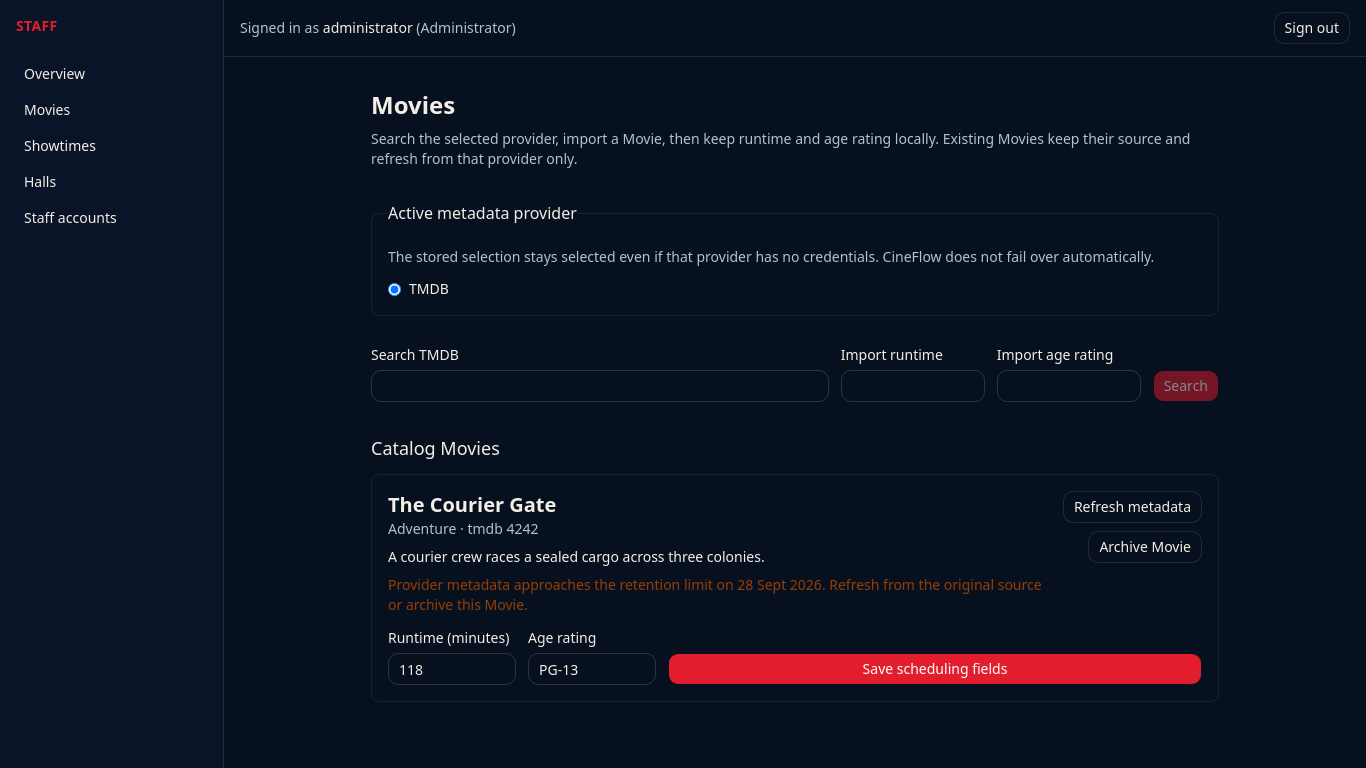
AdminMoviesPage › shows a retention warning and archives through the catalog client
This screenshot has width=1366, height=768.
Expected: the text "Provider metadata approaches the retention limit on 28 Sept 2026" is shown, [388, 575, 1051, 615]
Click the button "Archive Movie".
click(1145, 547)  # box [1088, 531, 1202, 563]
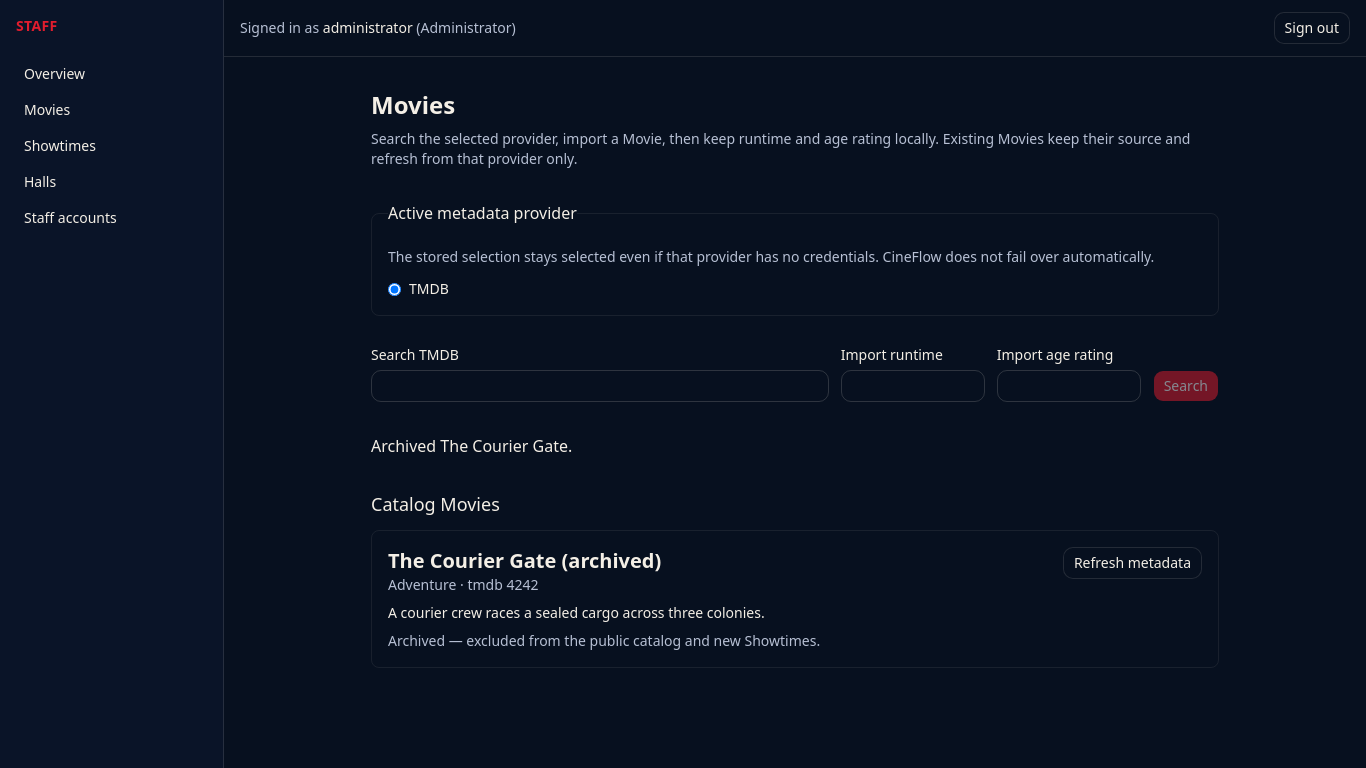
Result: the message reads "Archived The Courier Gate." at [371, 435, 572, 457]
Result: the text "Archived — excluded from the public catalog" is shown at [388, 631, 820, 650]
